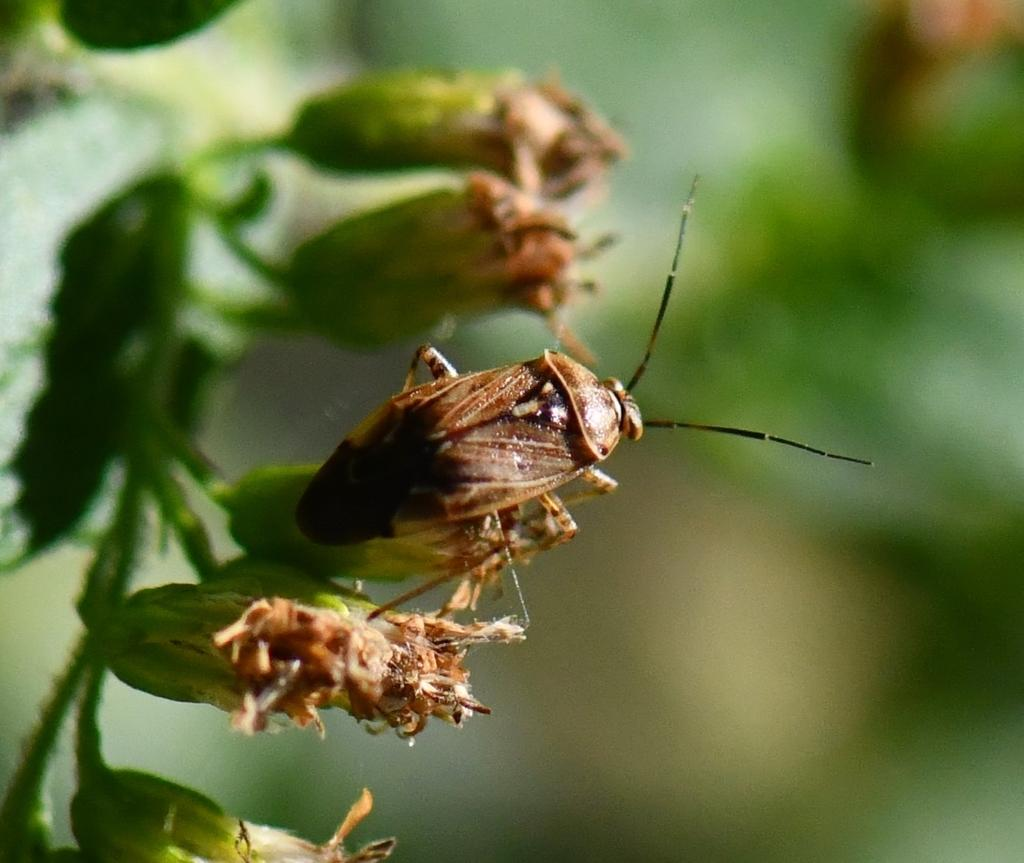plant_bugs: (213, 116, 933, 732)
